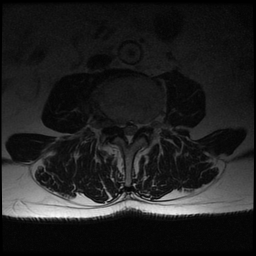CCS_normal: (125, 115, 132, 149)
LFS_severe_stenosis: (139, 115, 148, 136)
LLS_stenosis: (131, 115, 139, 141)
RFS_severe_stenosis: (109, 112, 117, 136)
RLS_stenosis: (117, 115, 126, 136)
